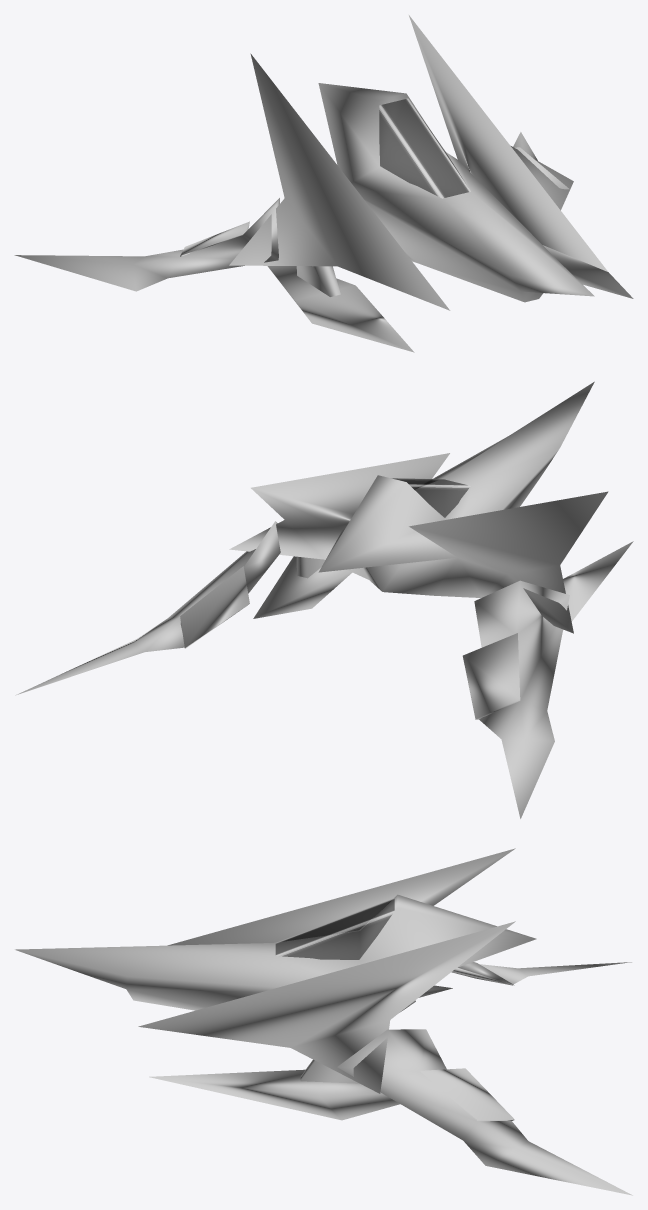
File: arwingNew51.obj
3 views of the same model, one above another, from view 1: azimuth 30°, elevation 25°; view 2: azimuth 150°, elevation 25°; view 3: azimuth 270°, elevation 25° (orthographic). The views are drawn at different scales.
Parts seen in each view (by area): view 1: Arwing.002; view 2: Arwing.002; view 3: Arwing.002.
Boxes of the visible parts, x1,y1,x2,y2 form: Arwing.002: (14,15,633,352); Arwing.002: (15,381,633,818); Arwing.002: (15,848,632,1195).
Size of the model in its own units: 5.55 by 2.15 by 6.22.
